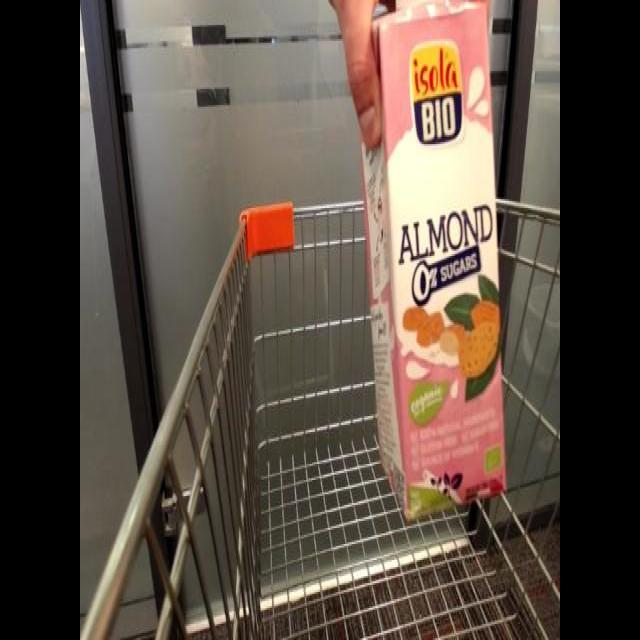Almond Milk: (354, 1, 512, 527)
